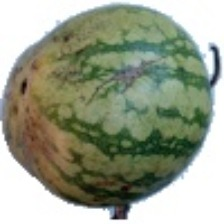watermelon: (3, 28, 189, 224)
